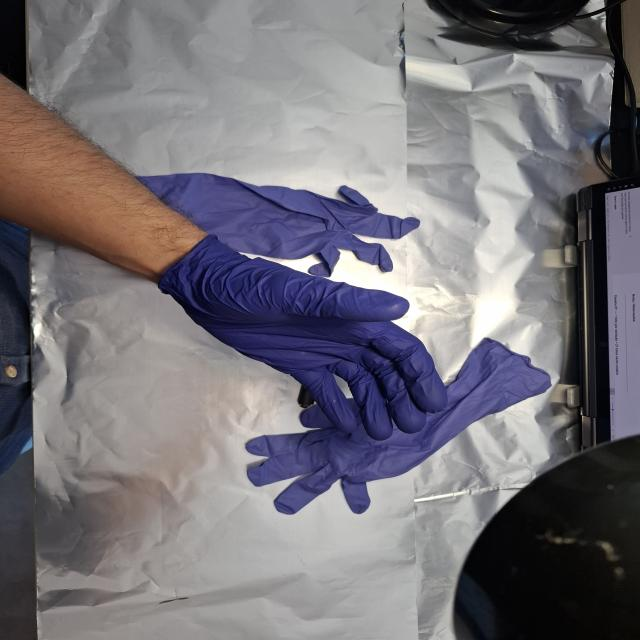glove_on: (156, 234, 454, 442)
